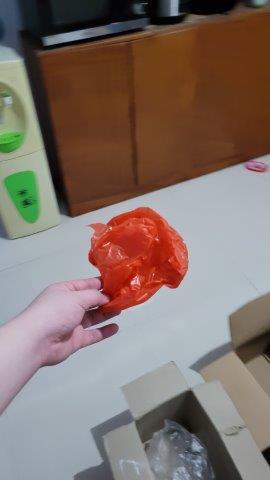plastik: (82, 207, 189, 307), (110, 421, 216, 480)
